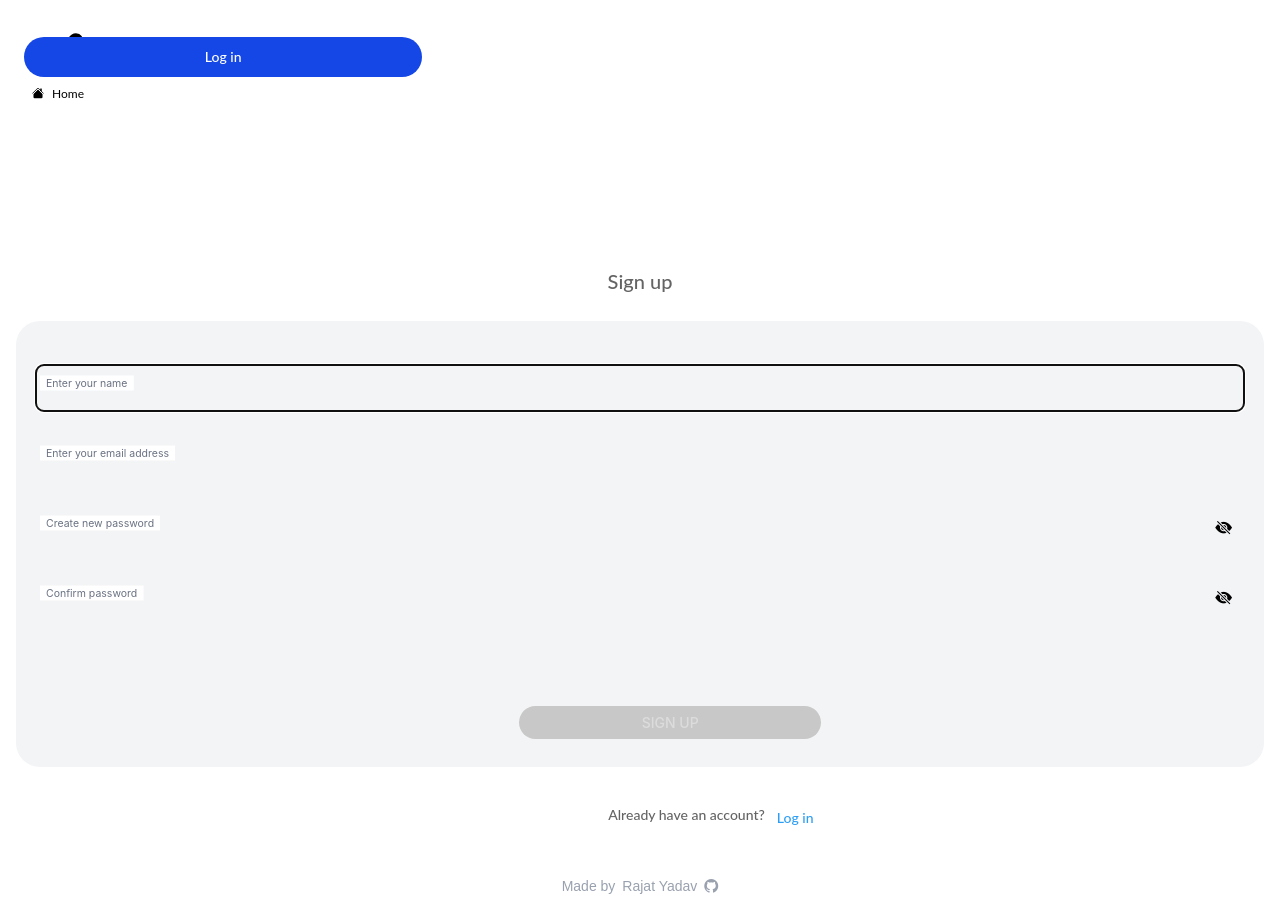
Test case: SignUp page › handles API errors gracefully
Type "Test User" into the field labelled "Enter your name" at (640, 388), box [36,365,1244,411]
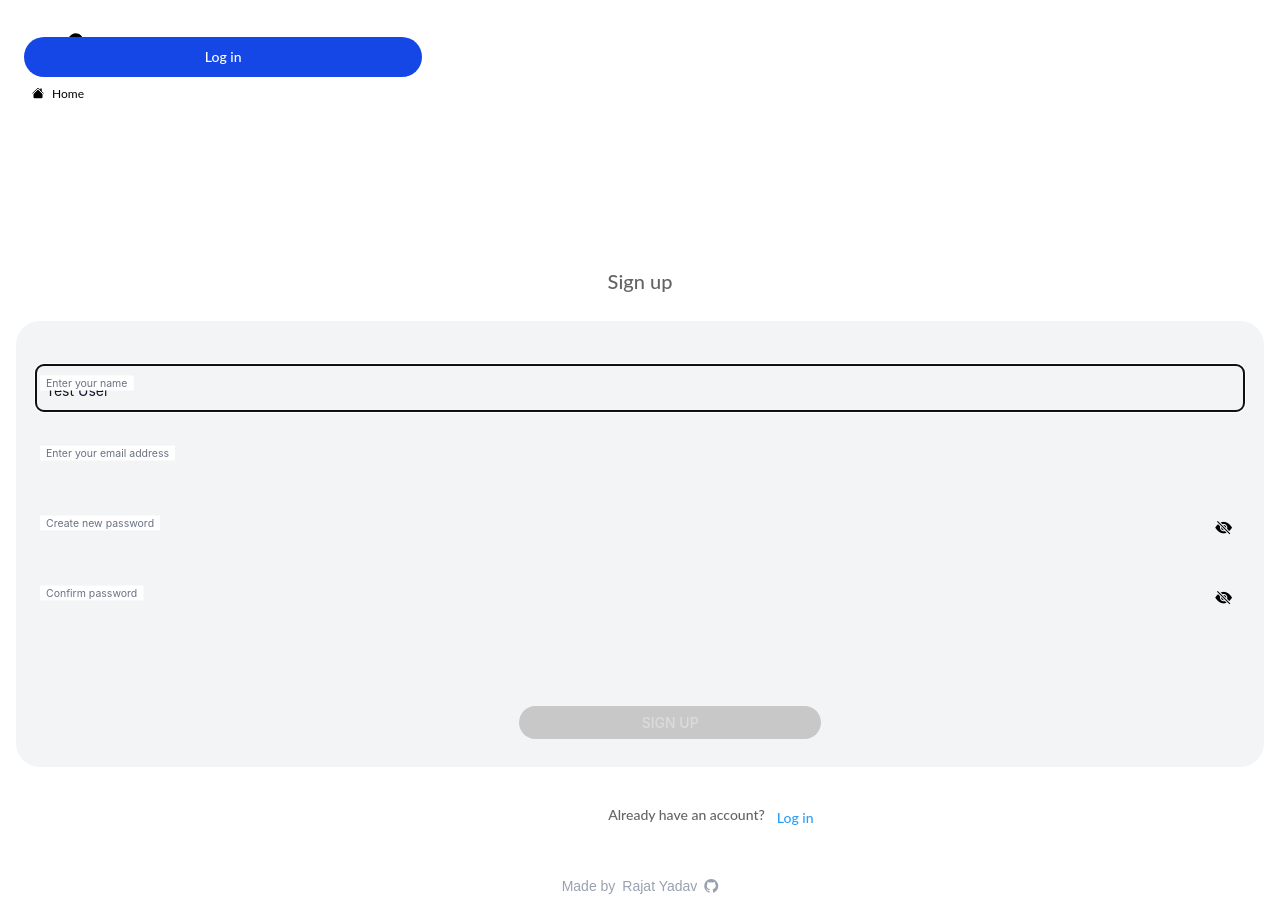
Type "testuser@example.com" into the field labelled "Enter your email address" at (640, 458), box [36,435,1244,481]
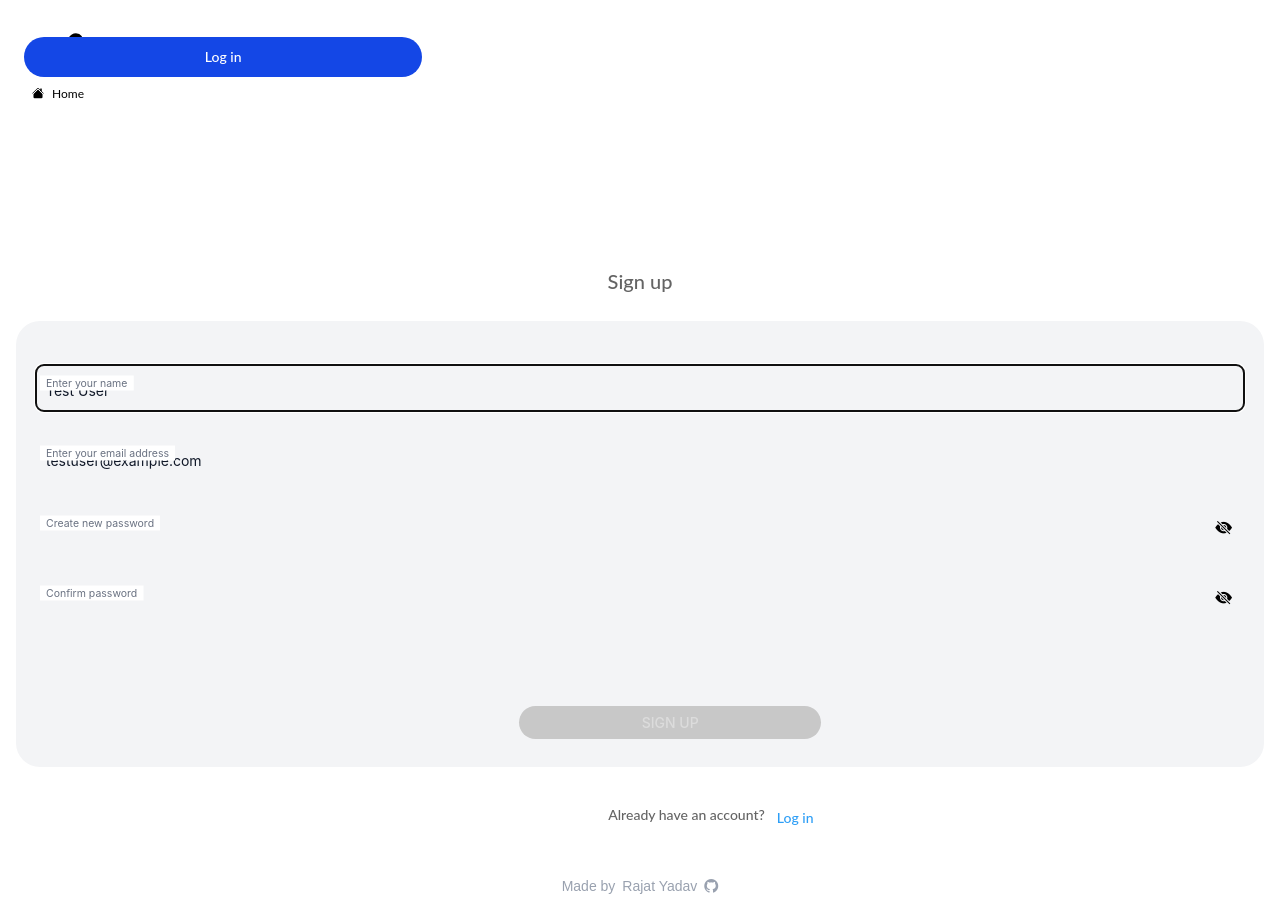
Type "Password.123" into the password field labelled "Create new password" at (640, 528), box [36,505,1244,551]
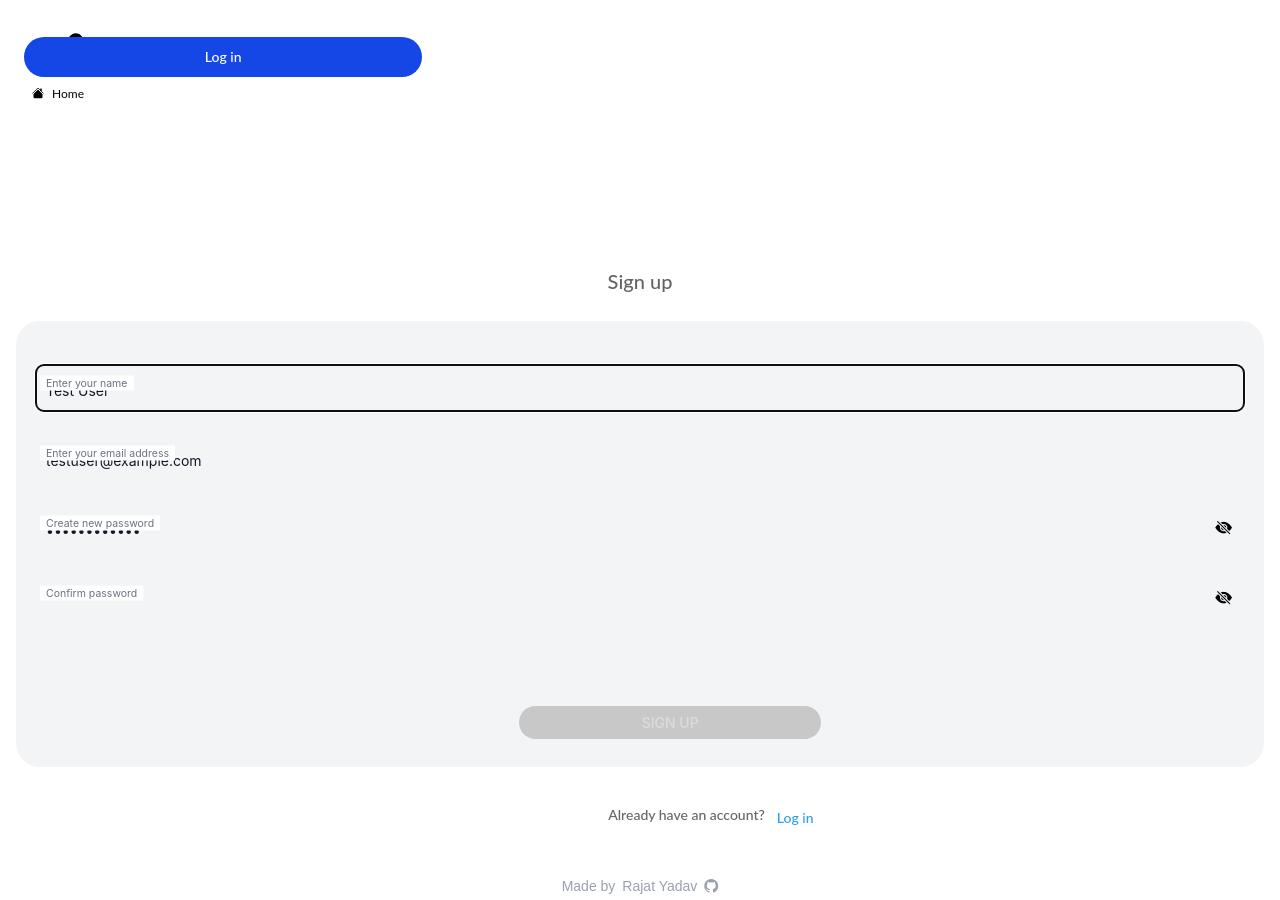
Type "Password.123" into the password field labelled "Confirm password" at (640, 598), box [36,575,1244,621]
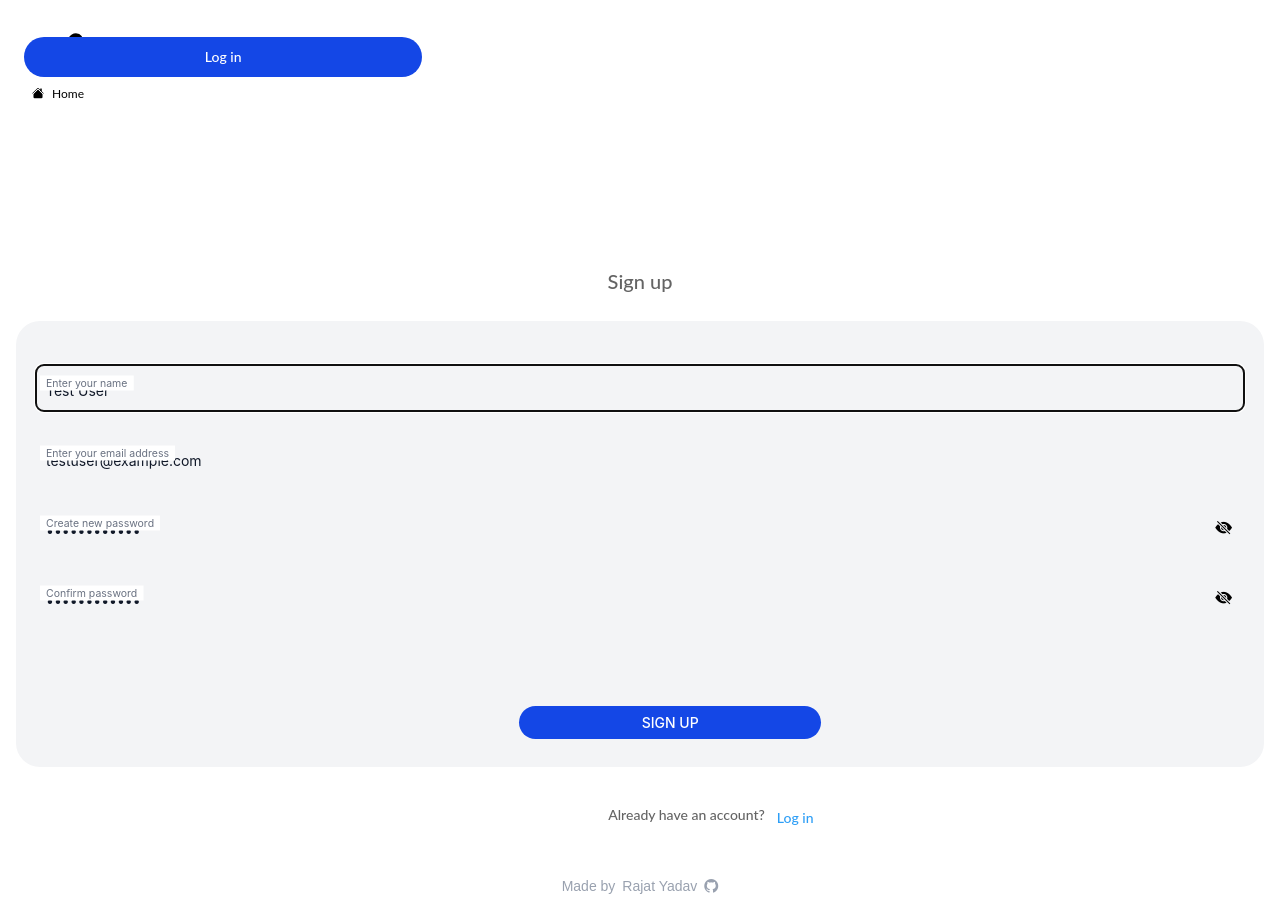
Click the button "SIGN UP" at (670, 722), box [519,706,821,739]
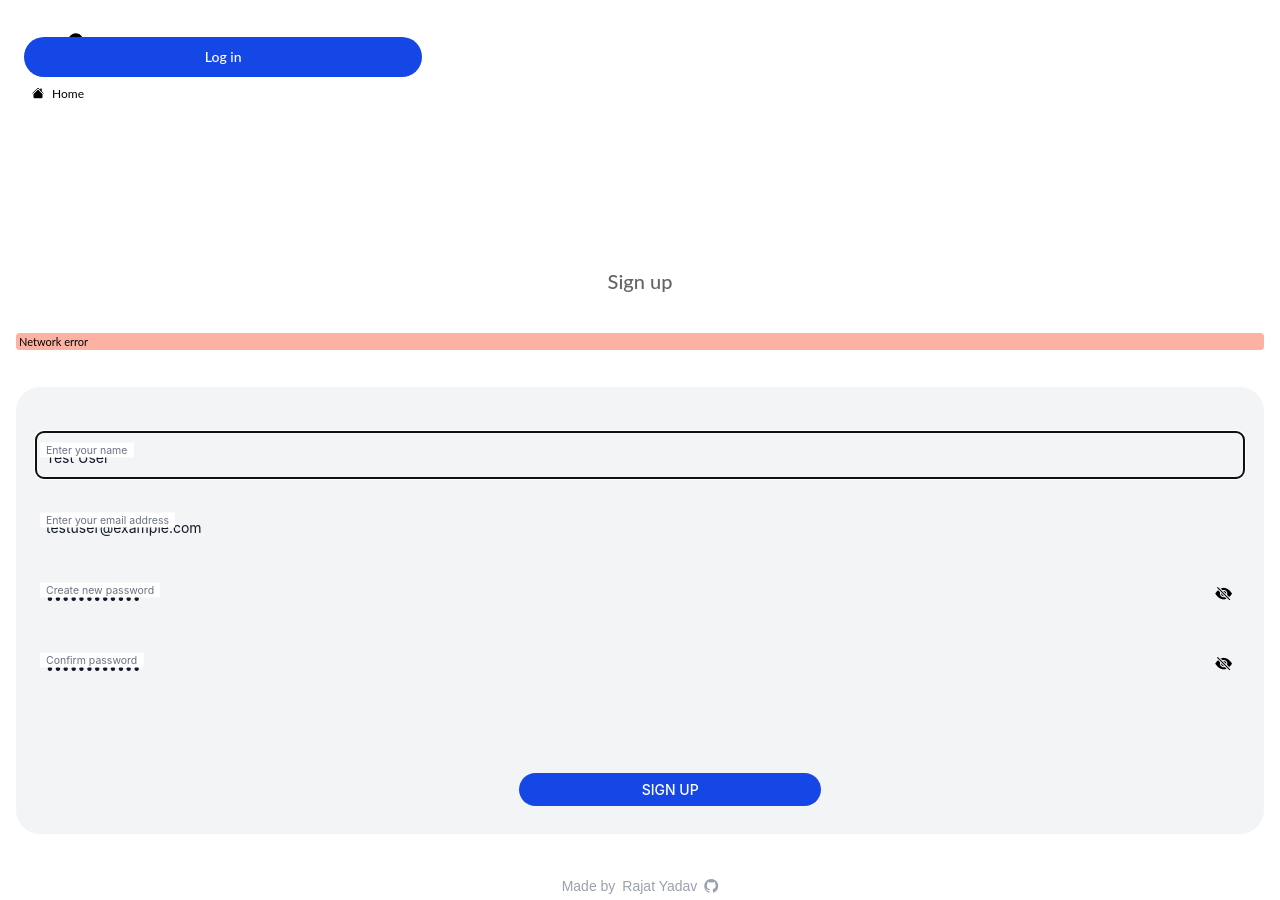
Now the text "Network error" is shown, box [16,333,1264,350]
